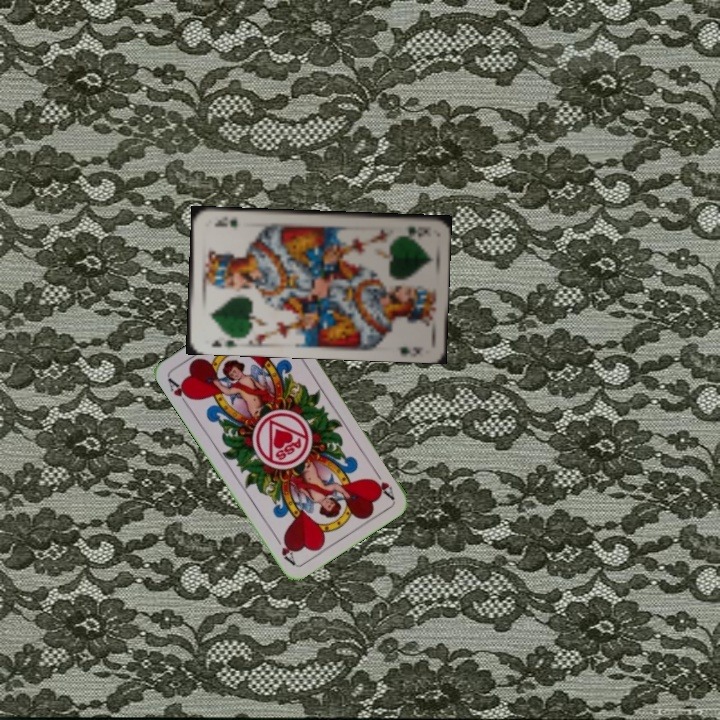GK: (208, 335, 240, 350), (403, 222, 431, 237)
HA: (163, 374, 196, 410), (369, 465, 397, 502)
